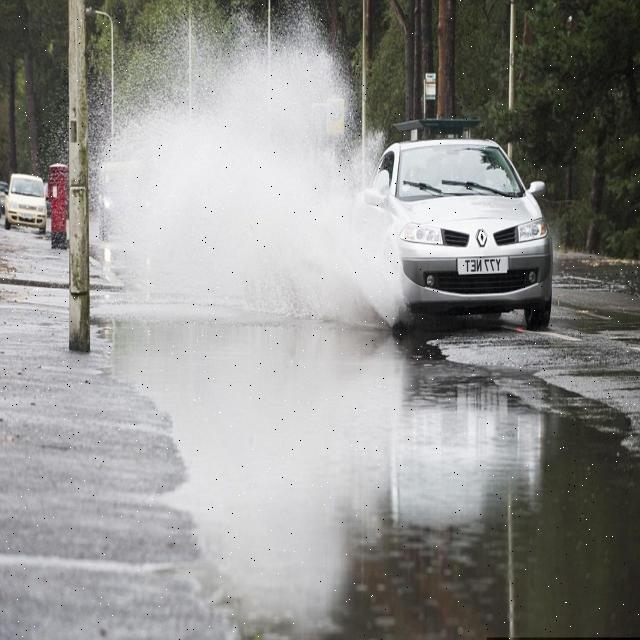car: (361, 133, 555, 330), (97, 160, 155, 243), (4, 172, 48, 230)
